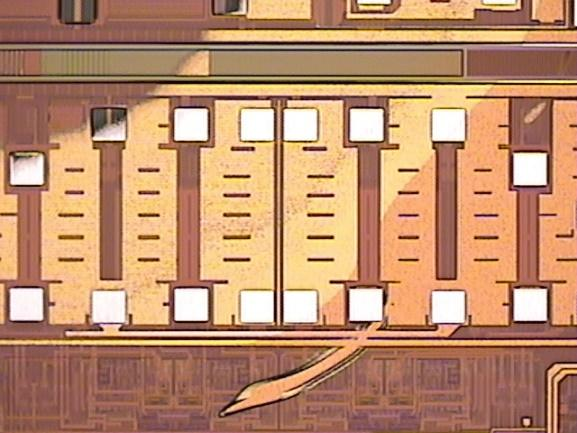COATING BAD: (1, 1, 543, 418)
